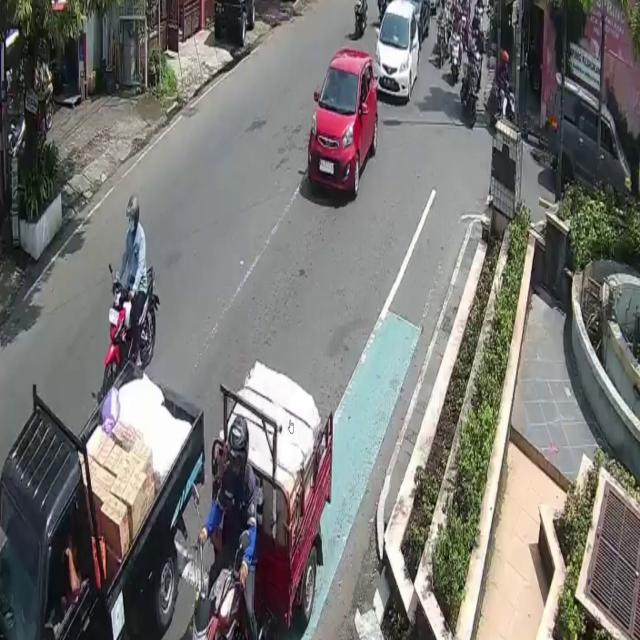bus: (107, 266, 159, 389), (492, 79, 518, 137), (460, 62, 480, 126)
motorcycle: (0, 360, 202, 639), (549, 71, 632, 209), (308, 46, 380, 200), (379, 1, 420, 105)
